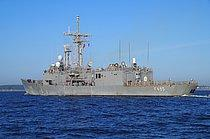MIL_Ship: (20, 43, 199, 98)
